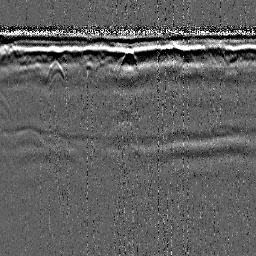cavity: (116, 48, 139, 71)
